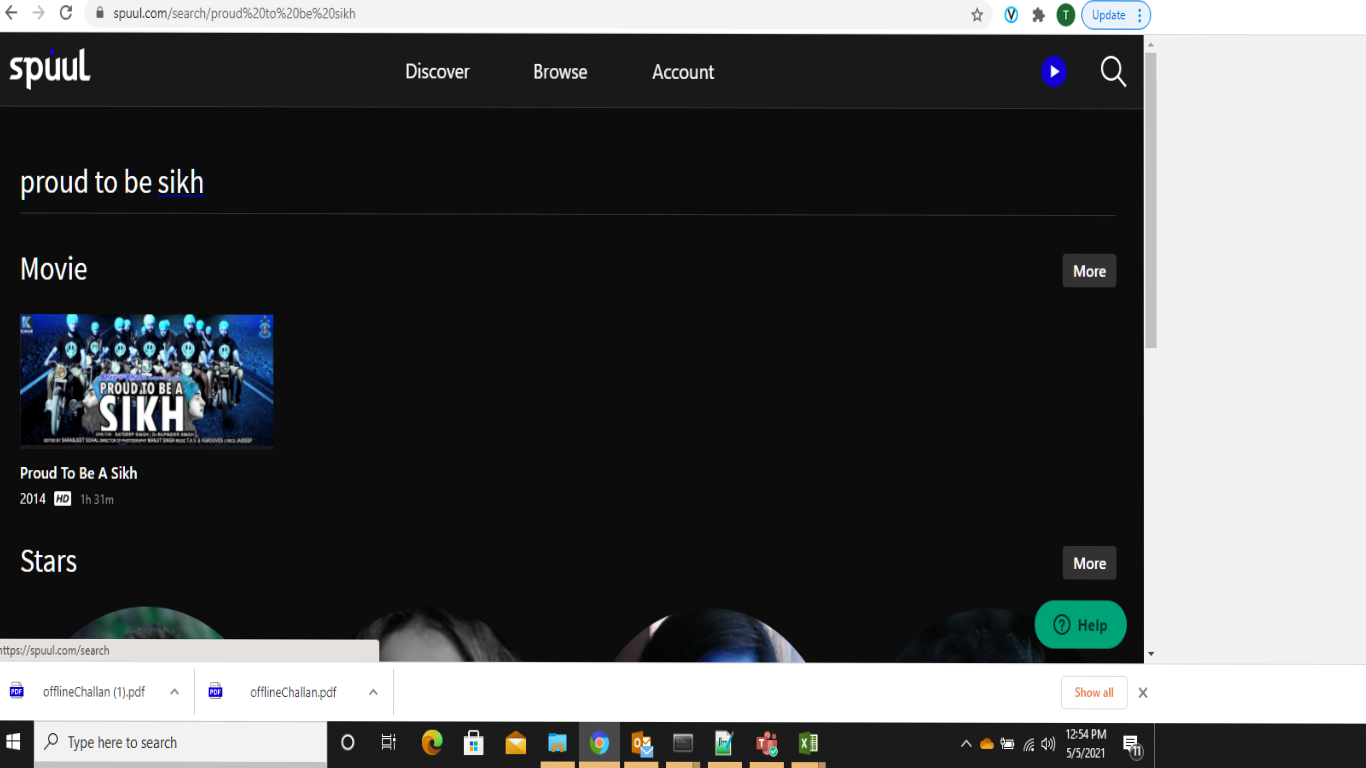myaccountbutton: (633, 51, 745, 107)
resultsfound: (19, 253, 168, 301)
searchicon: (1094, 53, 1134, 97)
searchtextbox: (19, 155, 1126, 237)
